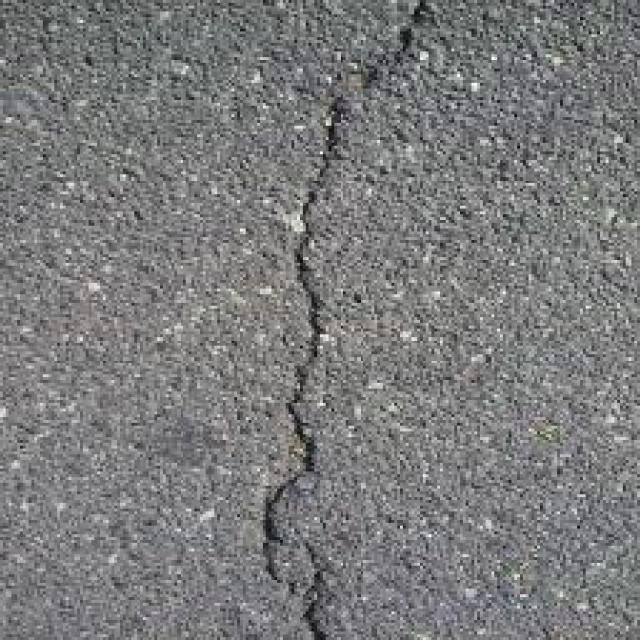crack: (212, 0, 464, 640)
